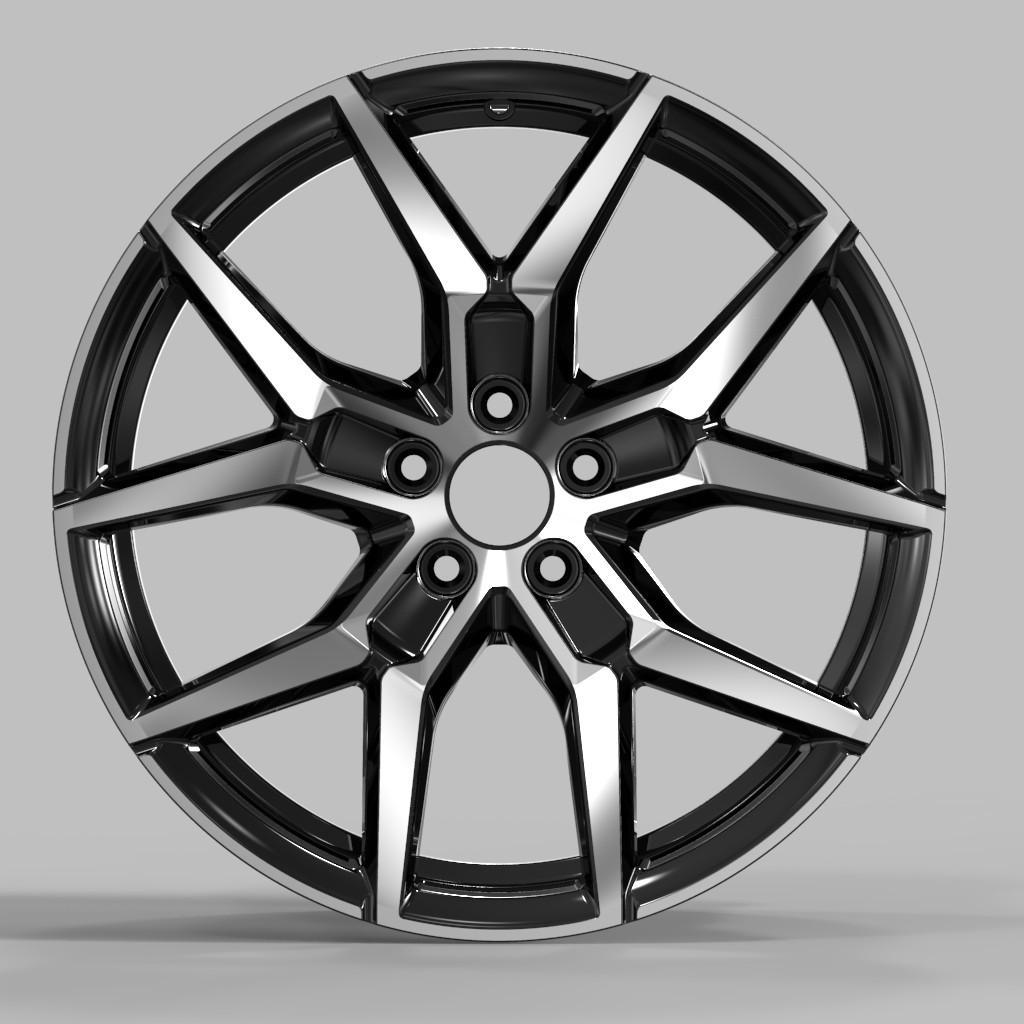hole: (471, 374, 530, 436), (388, 444, 440, 493), (421, 546, 468, 592), (530, 545, 574, 589), (565, 446, 607, 490)
